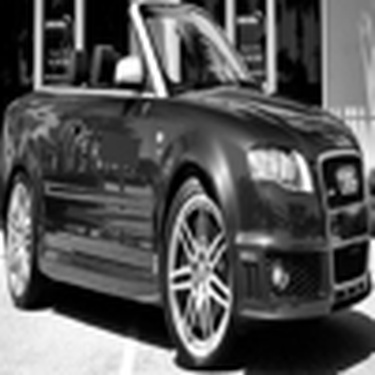car: (10, 2, 373, 358)
